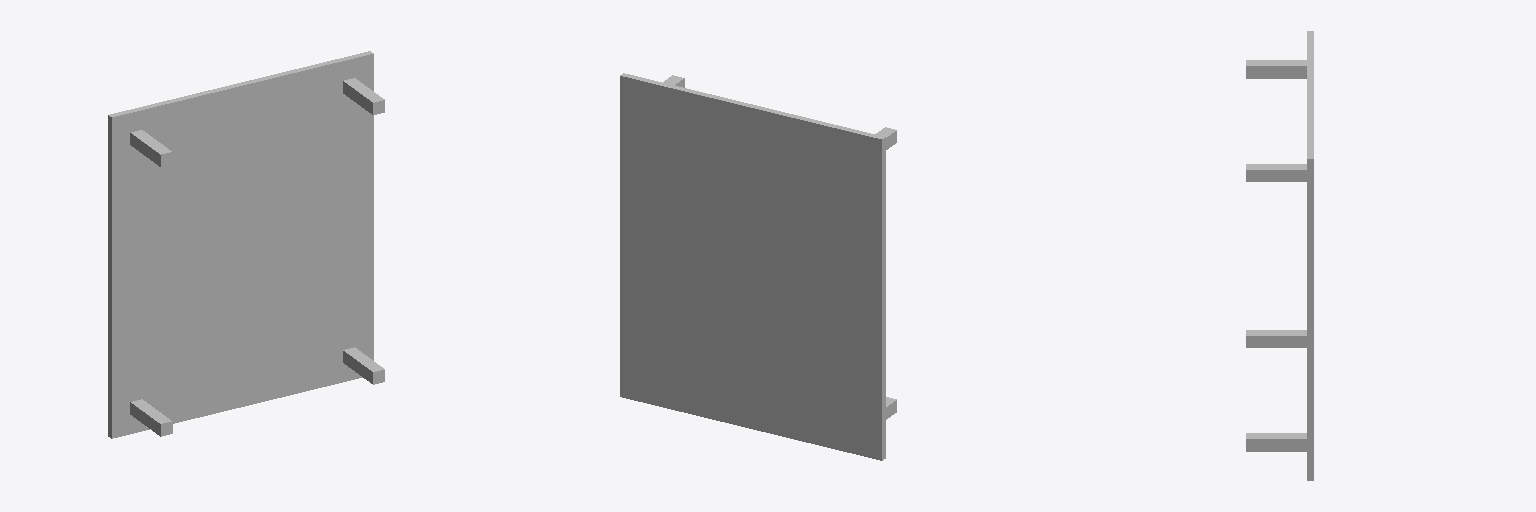
Rendered from random_table41.obj.
The picture shows the model from 3 angles: view 1: azimuth 30°, elevation 25°; view 2: azimuth 150°, elevation 25°; view 3: azimuth 270°, elevation 25°; orthographic projection.
Parts seen in each view (by area): view 1: Table_Cube.400, TableLeg3_Cube.404, TableLeg1_Cube.402, TableLeg2_Cube.403, TableLeg0_Cube.401; view 2: Table_Cube.400; view 3: Table_Cube.400, TableLeg1_Cube.402, TableLeg2_Cube.403, TableLeg0_Cube.401, TableLeg3_Cube.404.
Boxes of the visible parts, box(x1,y1,x2,y2) form: Table_Cube.400: box(108, 51, 373, 438); TableLeg3_Cube.404: box(130, 399, 172, 436); TableLeg1_Cube.402: box(130, 130, 172, 166); TableLeg2_Cube.403: box(343, 347, 384, 384); TableLeg0_Cube.401: box(343, 78, 384, 114); Table_Cube.400: box(620, 73, 885, 460); Table_Cube.400: box(1307, 31, 1313, 480); TableLeg1_Cube.402: box(1246, 60, 1306, 78); TableLeg2_Cube.403: box(1246, 433, 1306, 451); TableLeg0_Cube.401: box(1246, 164, 1306, 181); TableLeg3_Cube.404: box(1246, 330, 1306, 347).
Size of the model in its own units: 6.69 by 7.84 by 1.49.